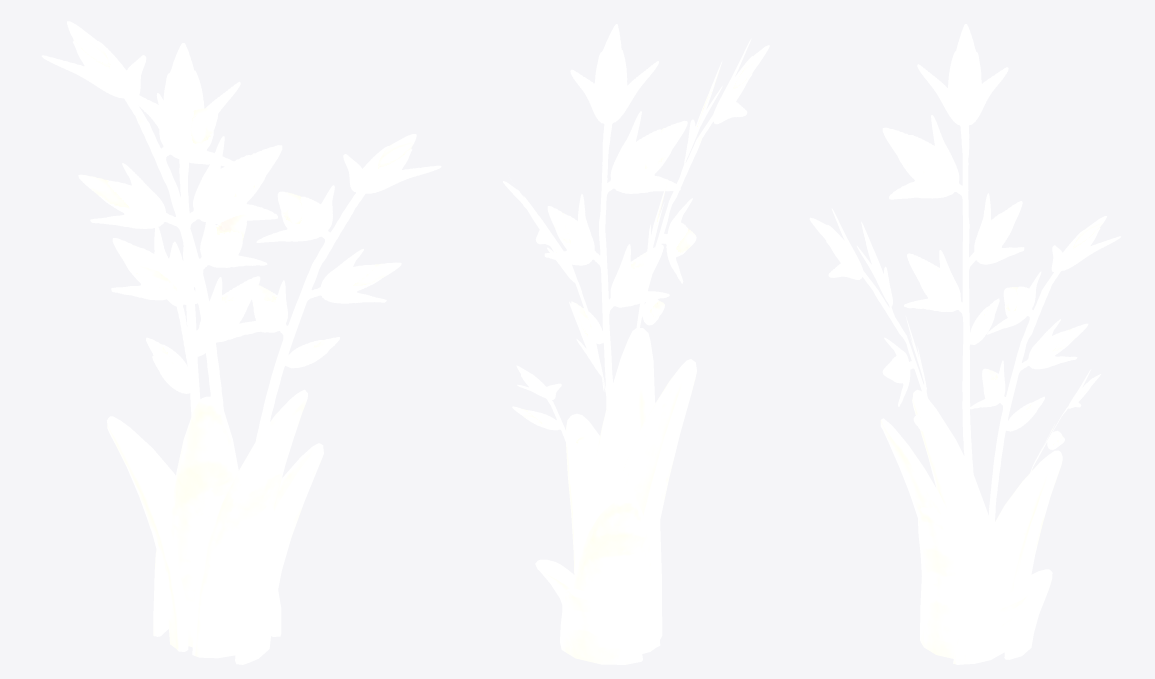
The picture shows the model from 3 angles, left to right: view 1: azimuth 30°, elevation 25°; view 2: azimuth 150°, elevation 25°; view 3: azimuth 270°, elevation 25°; orthographic projection. The views are drawn at different scales.
Parts seen in each view (by area): view 1: SM_Desert_Weed_01v3_LOD0; view 2: SM_Desert_Weed_01v3_LOD0; view 3: SM_Desert_Weed_01v3_LOD0.
Boxes of the visible parts, bbox=[...] form: SM_Desert_Weed_01v3_LOD0: bbox=[41, 21, 441, 664]; SM_Desert_Weed_01v3_LOD0: bbox=[503, 24, 769, 664]; SM_Desert_Weed_01v3_LOD0: bbox=[809, 24, 1120, 664].
Bounding box in the file's own units: 0.4583 × 0.8857 × 0.4787.
1 material, 1 textured.
